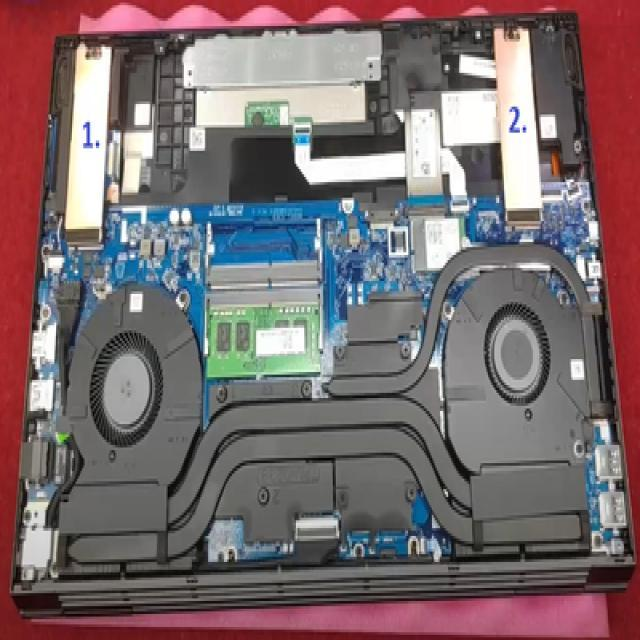SSD: (244, 101, 293, 137)
